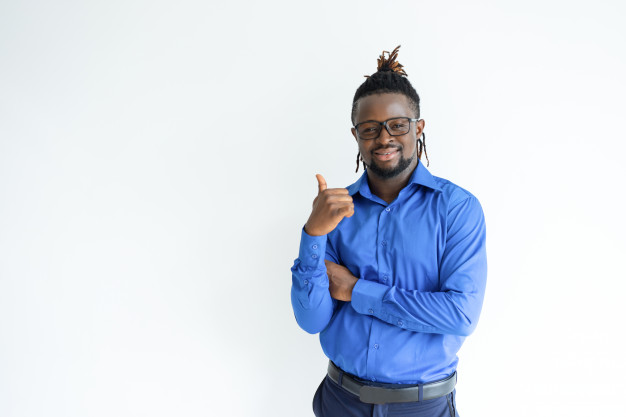thumbsup: (315, 173, 354, 216)
